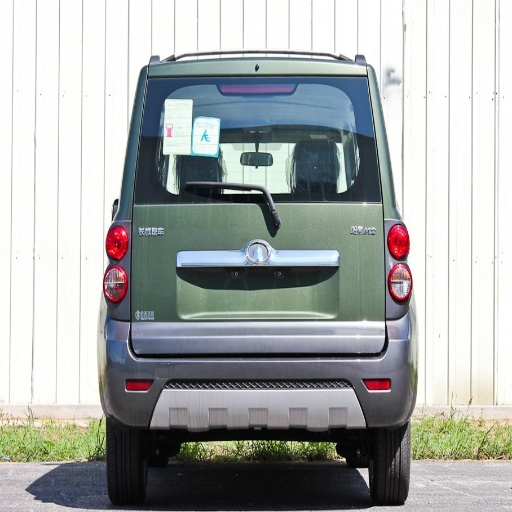back_bumper: (99, 293, 415, 432)
trunk: (108, 197, 391, 356)
